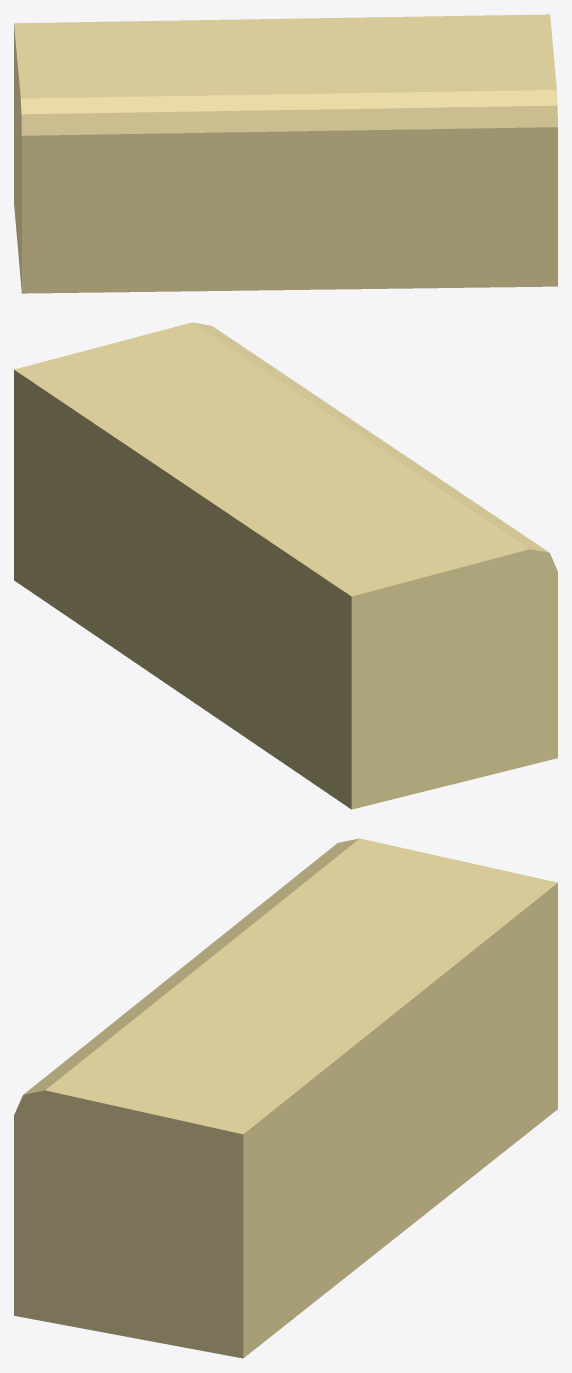
File: butter.glb
3 views of the same model, one above another, from view 1: azimuth 30°, elevation 25°; view 2: azimuth 150°, elevation 25°; view 3: azimuth 270°, elevation 25° (orthographic). The views are drawn at different scales.
Visible parts, largest first — view 1: butter; view 2: butter; view 3: butter.
Boxes of the visible parts, x1,y1,x2,y2 form: butter: (14,14,557,293); butter: (14,322,557,809); butter: (14,838,557,1358).
Size of the model in its own units: 5.55 by 1.98 by 4.21.
